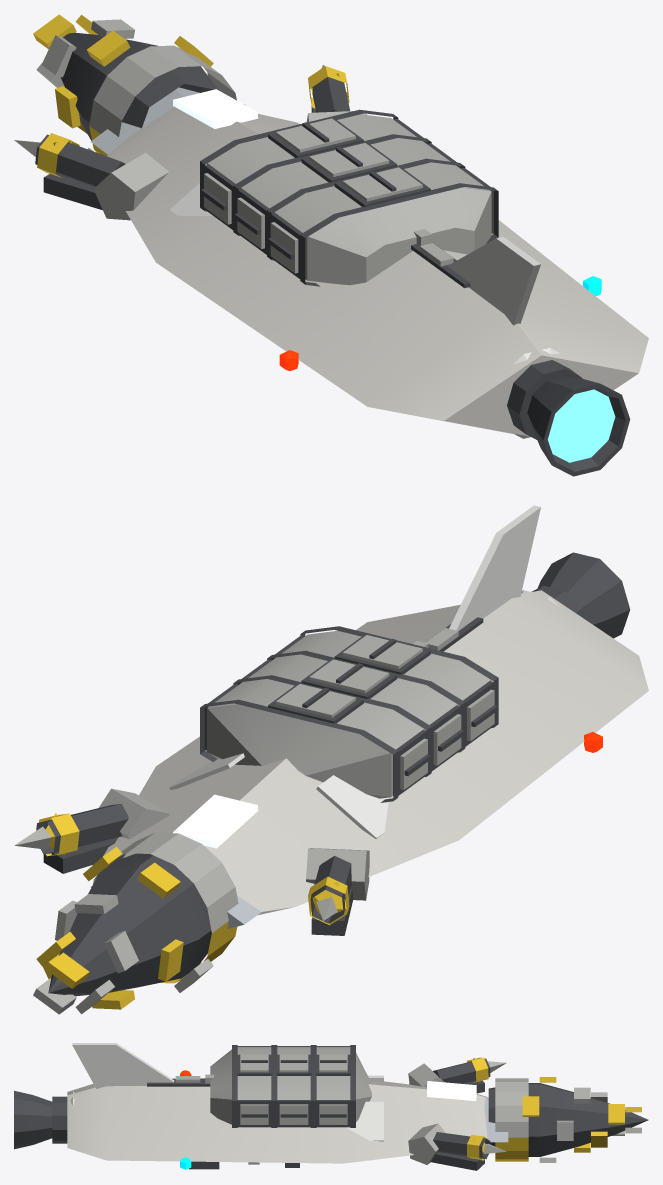
Rendered from unit_miner_60.glb.
3 views of the same model, one above another, from view 1: azimuth 30°, elevation 25°; view 2: azimuth 150°, elevation 25°; view 3: azimuth 270°, elevation 25° (orthographic). The views are drawn at different scales.
Visible parts, largest first — view 1: Hull, Rotor_Drill; view 2: Hull, Rotor_Drill; view 3: Hull, Rotor_Drill.
Part boxes in pixels (left/top/right/bottom): Hull: left=35, top=66, right=648, bottom=476; Rotor_Drill: left=33, top=14, right=236, bottom=156; Hull: left=36, top=505, right=648, bottom=935; Rotor_Drill: left=33, top=832, right=238, bottom=1014; Hull: left=14, top=1043, right=508, bottom=1170; Rotor_Drill: left=488, top=1077, right=648, bottom=1162.
Bounding box in the file's own units: 0.6841 × 0.4241 × 2.
